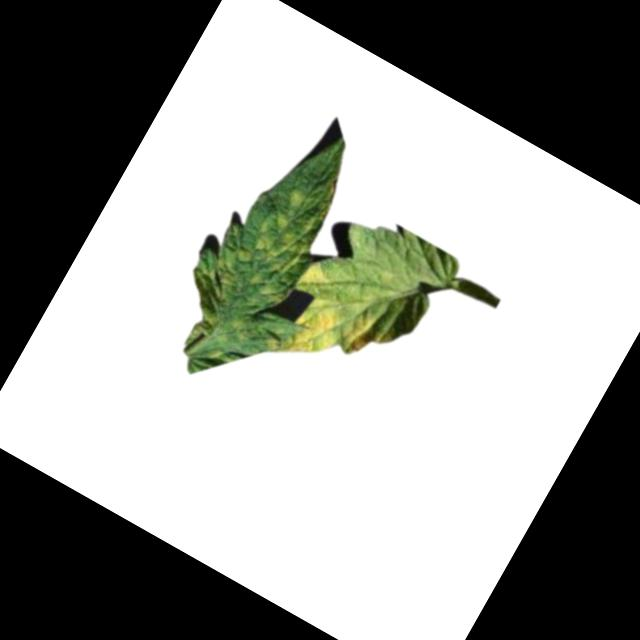Leaf_Mold: (206, 140, 353, 310), (261, 253, 408, 400), (159, 246, 252, 358)
